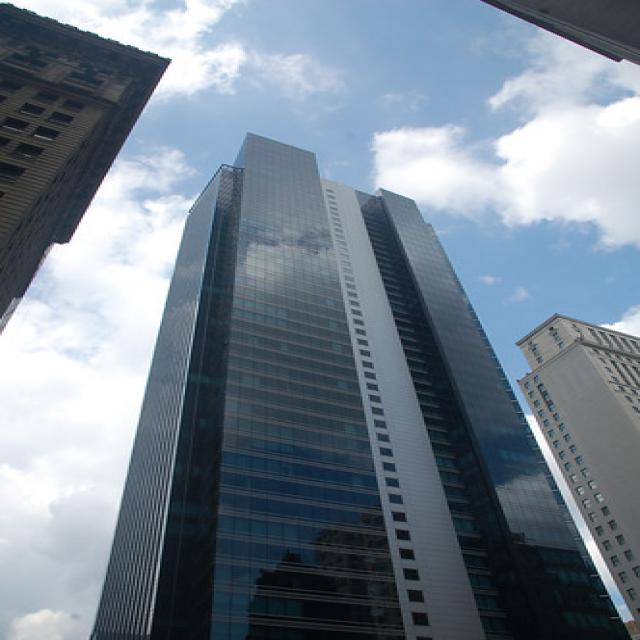Normal_building: (109, 129, 622, 640)
